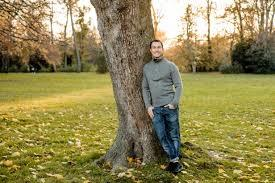FallenBody: (139, 40, 196, 174)
